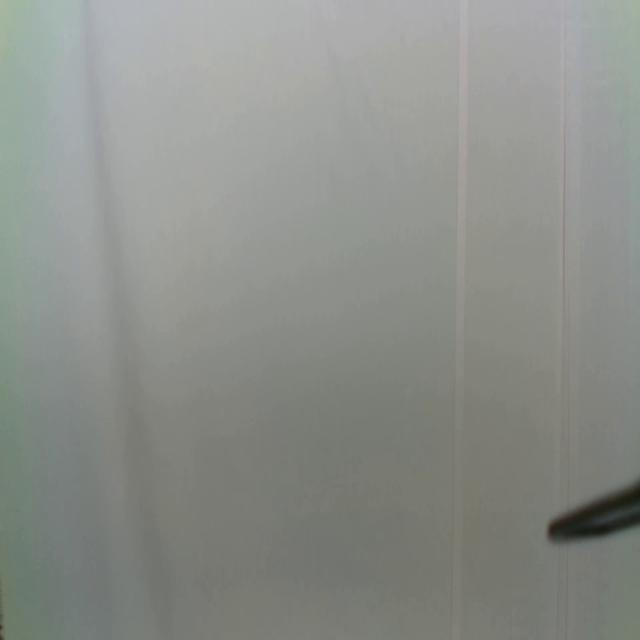crease: (552, 0, 584, 505), (449, 0, 469, 640), (552, 541, 574, 640)
